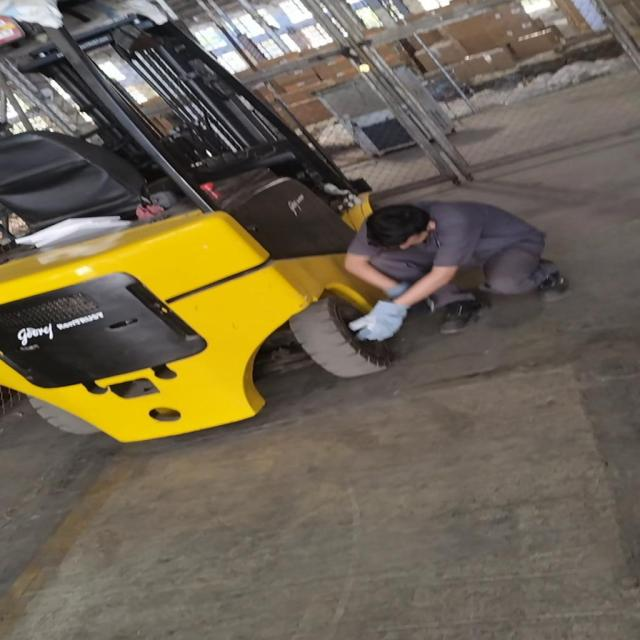Gloves-Detection: (344, 293, 404, 344)
